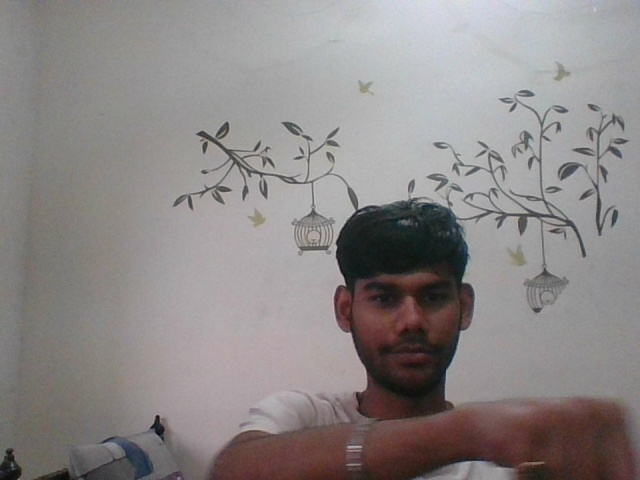Thank You: (439, 369, 636, 480)
